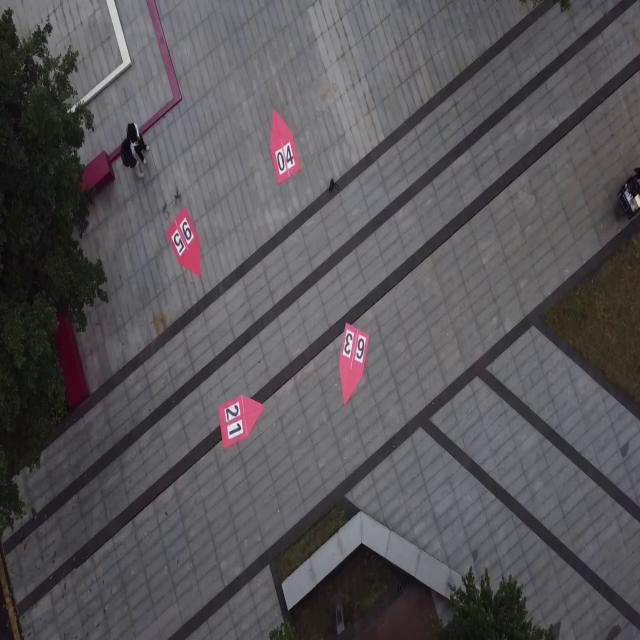-sign-: (167, 206, 210, 290), (338, 322, 369, 407), (269, 107, 301, 185), (220, 395, 264, 451)
